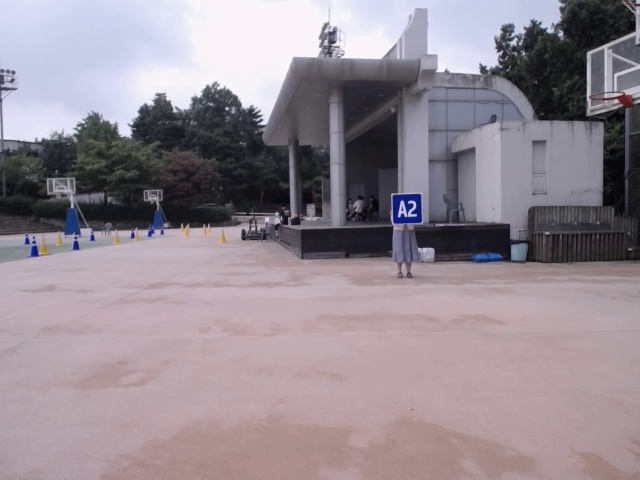delivery_a2: (392, 193, 423, 225)
